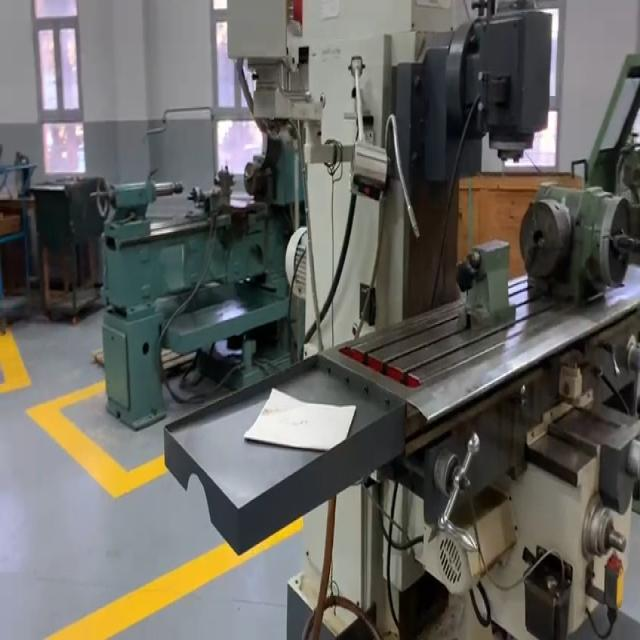fraiseuse: (170, 0, 640, 638)
